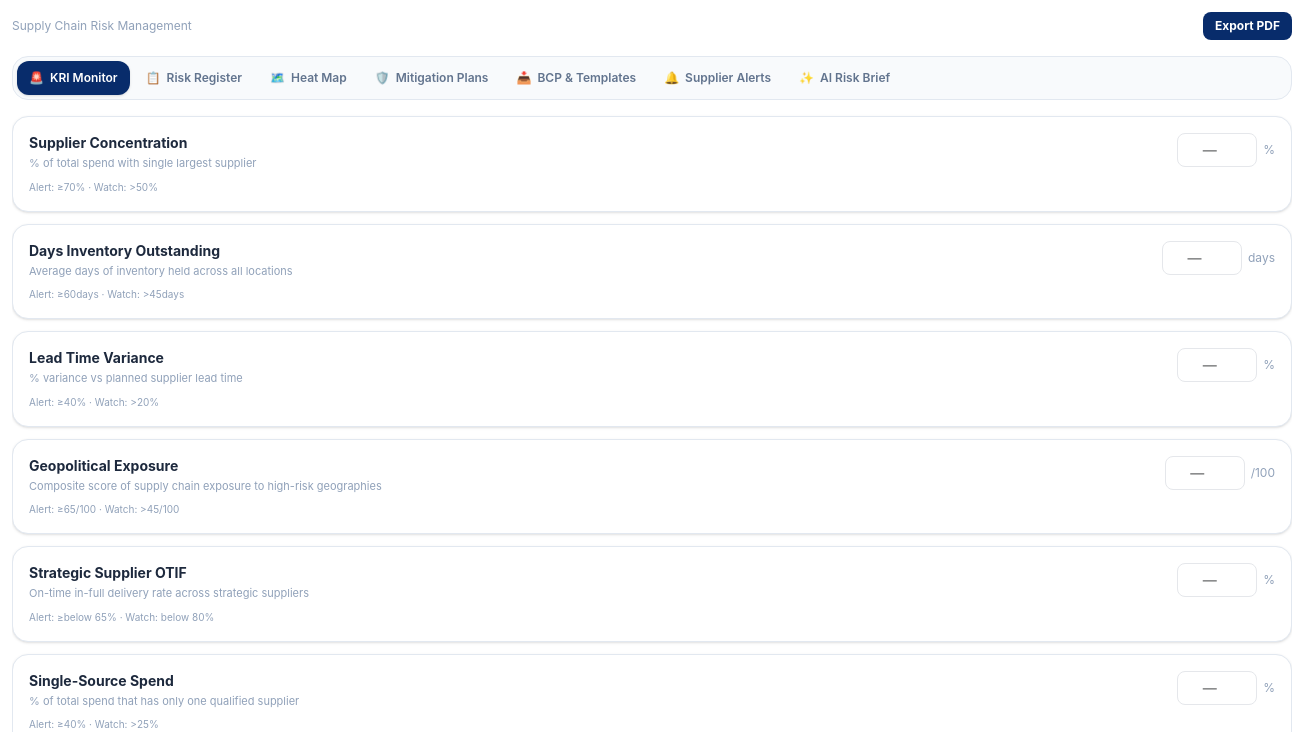
Test: KRIDashboard — Generate button › shows sign-in prompt when not authenticated
Click the tab "✨ AI Risk Brief": click(845, 78) 787,61 -> 902,95
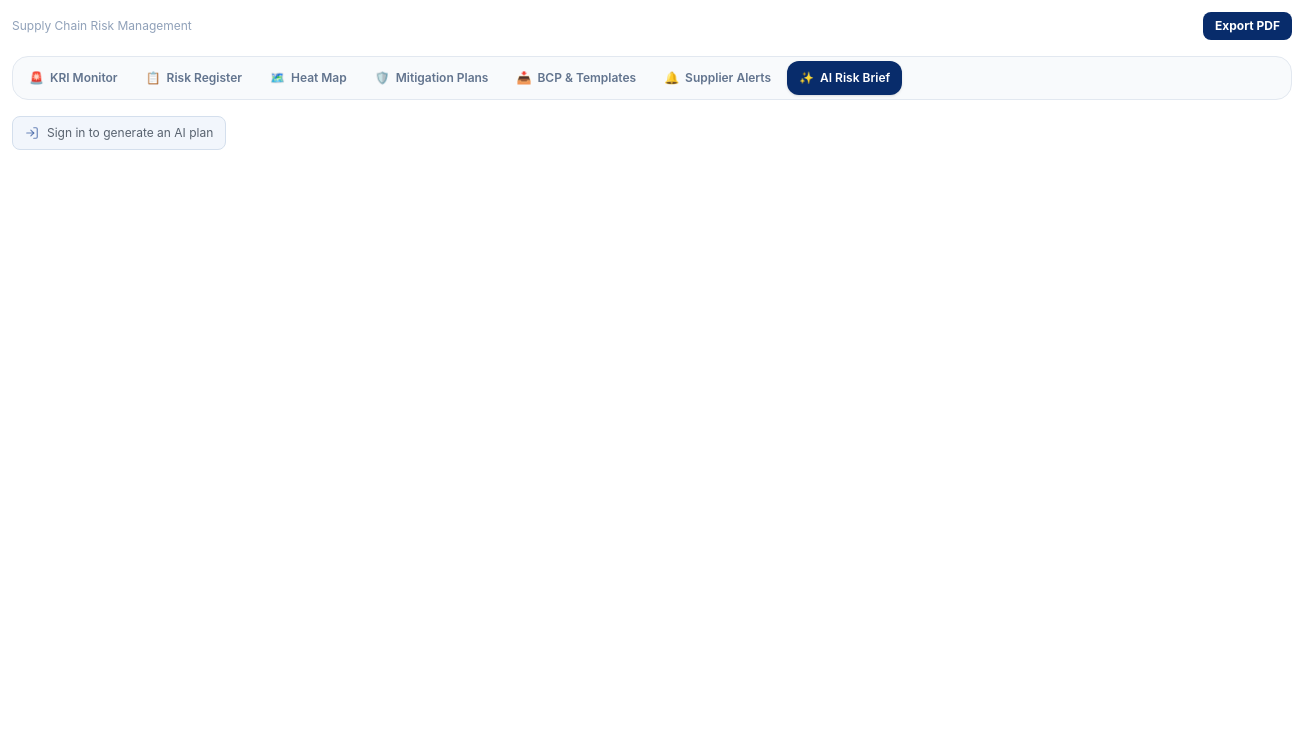
Now the text "Sign in to generate an AI plan" is shown, box 47,125 -> 213,141
